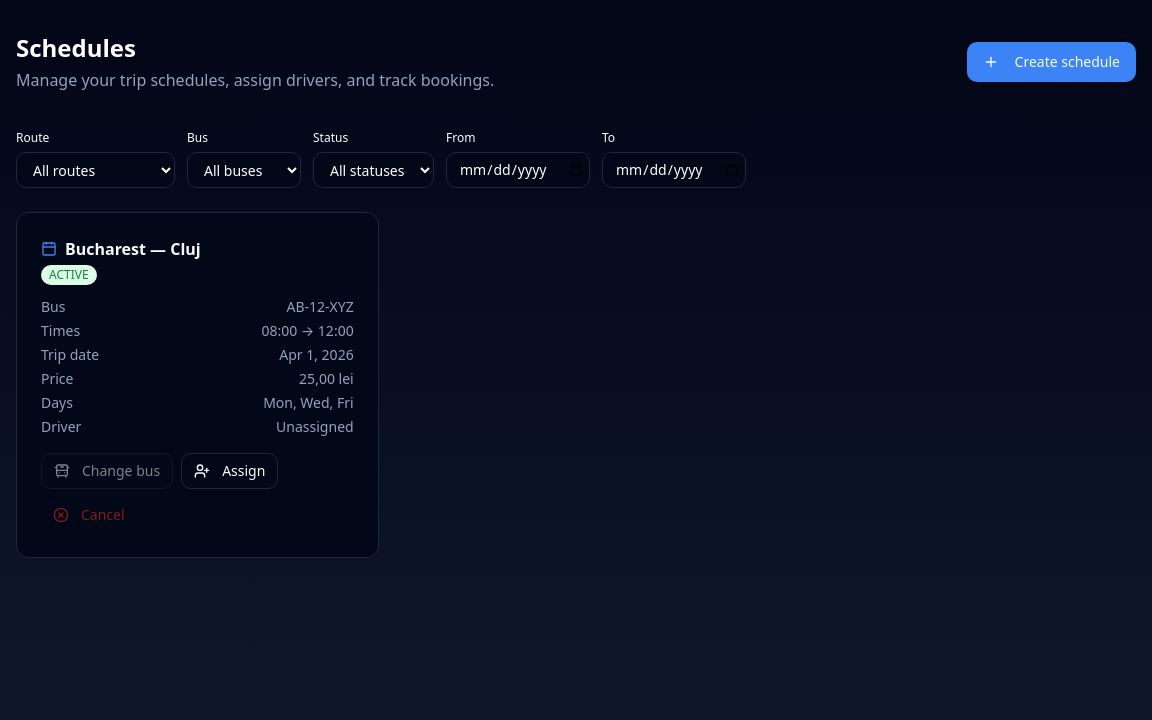
Test case: ProviderSchedulesPage › driver assignment › opens driver assignment dialog on assign click
This screenshot has width=1152, height=720.
Step 1. Click the button with aria-label "assign driver" → (230,471), box [181,453,278,489]
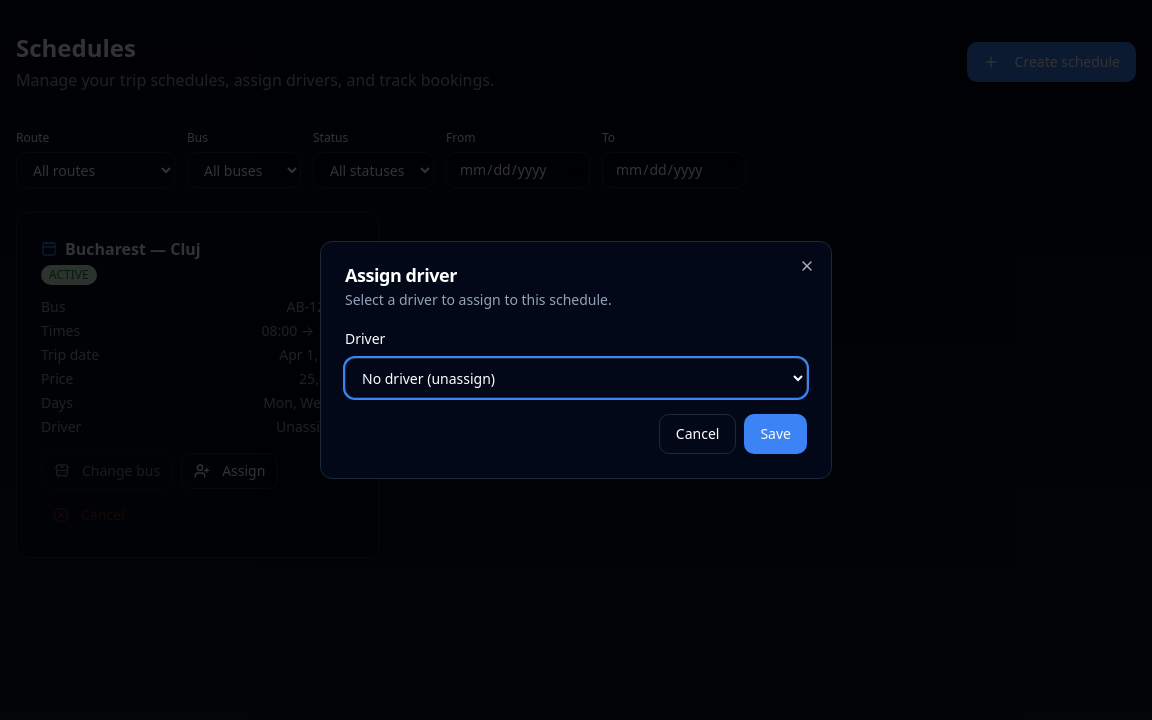
Now the heading "Assign driver" is shown, box [345,263,457,287]
Now the dropdown labelled "Driver" is shown, box [345,358,807,398]
